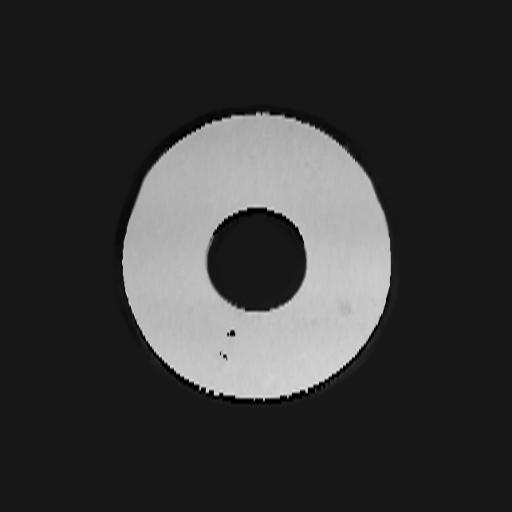defect: (219, 349, 228, 363), (226, 327, 236, 339)
